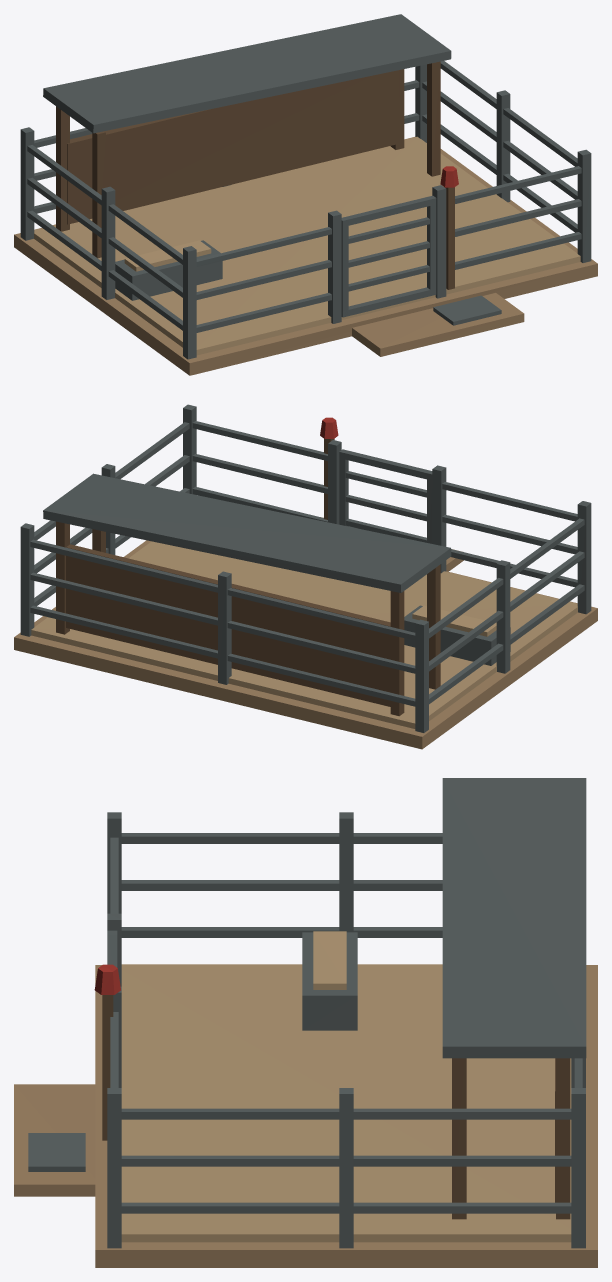
The model's file is Quarantine-Pen.glb.
The picture shows the model from 3 angles, top to bottom: view 1: azimuth 30°, elevation 25°; view 2: azimuth 150°, elevation 25°; view 3: azimuth 270°, elevation 25°; orthographic projection. The views are drawn at different scales.
Parts seen in each view (by area): view 1: quarantine-pen-static-quarantine-pen-galvanized-iron-mat, quarantine-pen-static-quarantine-pen-dry-floor-mat, quarantine-pen-static-quarantine-pen-weathered-timber-mat, quarantine-pen-static-quarantine-pen-tan-drainage-curb-mat; view 2: quarantine-pen-static-quarantine-pen-galvanized-iron-mat, quarantine-pen-static-quarantine-pen-weathered-timber-mat, quarantine-pen-static-quarantine-pen-dry-floor-mat, quarantine-pen-static-quarantine-pen-tan-drainage-curb-mat; view 3: quarantine-pen-static-quarantine-pen-dry-floor-mat, quarantine-pen-static-quarantine-pen-galvanized-iron-mat, quarantine-pen-static-quarantine-pen-tan-drainage-curb-mat, quarantine-pen-static-quarantine-pen-weathered-timber-mat, quarantine-pen-static-quarantine-pen-status-red-mat.
Boxes of the visible parts, box(x1,y1,x2,y2) form: quarantine-pen-static-quarantine-pen-galvanized-iron-mat: box(20, 14, 591, 359); quarantine-pen-static-quarantine-pen-dry-floor-mat: box(34, 136, 580, 355); quarantine-pen-static-quarantine-pen-weathered-timber-mat: box(56, 61, 454, 289); quarantine-pen-static-quarantine-pen-tan-drainage-curb-mat: box(14, 137, 597, 375); quarantine-pen-static-quarantine-pen-galvanized-iron-mat: box(20, 404, 591, 732); quarantine-pen-static-quarantine-pen-weathered-timber-mat: box(56, 438, 440, 716); quarantine-pen-static-quarantine-pen-dry-floor-mat: box(31, 541, 577, 728); quarantine-pen-static-quarantine-pen-tan-drainage-curb-mat: box(14, 517, 597, 749); quarantine-pen-static-quarantine-pen-dry-floor-mat: box(121, 931, 571, 1242); quarantine-pen-static-quarantine-pen-galvanized-iron-mat: box(28, 778, 586, 1248); quarantine-pen-static-quarantine-pen-tan-drainage-curb-mat: box(14, 965, 597, 1267); quarantine-pen-static-quarantine-pen-weathered-timber-mat: box(102, 995, 570, 1219); quarantine-pen-static-quarantine-pen-status-red-mat: box(94, 964, 120, 994).
Size of the model in its own units: 6.1 by 2.22 by 5.29.
